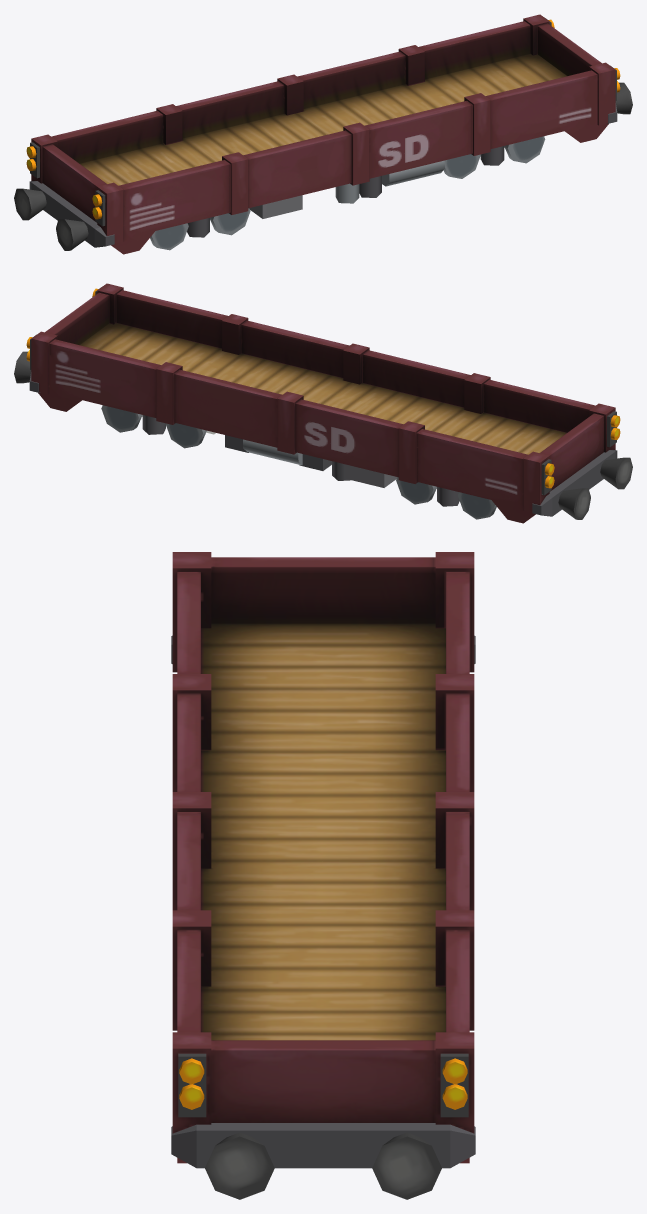
File: Goederen_Laadbak_t2.FBX
The picture shows the model from 3 angles, top to bottom: view 1: azimuth 30°, elevation 25°; view 2: azimuth 150°, elevation 25°; view 3: azimuth 270°, elevation 25°; orthographic projection. The views are drawn at different scales.
Parts seen in each view (by area): view 1: LageBox, TrainLocomotive, Object002, Object004, Object001; view 2: LageBox, TrainLocomotive, Object002, Object004, Object001; view 3: LageBox, Object001, Object003.
Boxes of the visible parts, x1=… form: LageBox: x1=31, y1=14, x2=615, y2=254; TrainLocomotive: x1=150, y1=136, x2=545, y2=250; Object002: x1=14, y1=181, x2=114, y2=250; Object004: x1=26, y1=142, x2=105, y2=226; Object001: x1=606, y1=82, x2=632, y2=123; LageBox: x1=31, y1=283, x2=615, y2=523; TrainLocomotive: x1=101, y1=405, x2=496, y2=519; Object002: x1=532, y1=450, x2=632, y2=519; Object004: x1=541, y1=411, x2=620, y2=495; Object001: x1=14, y1=351, x2=40, y2=392; LageBox: x1=172, y1=552, x2=474, y2=1163; Object001: x1=171, y1=1123, x2=475, y2=1199; Object003: x1=178, y1=1053, x2=468, y2=1117.
Bounding box in the file's own units: 1170 × 172 × 275.
Materials: 6 (6 with a texture image).
